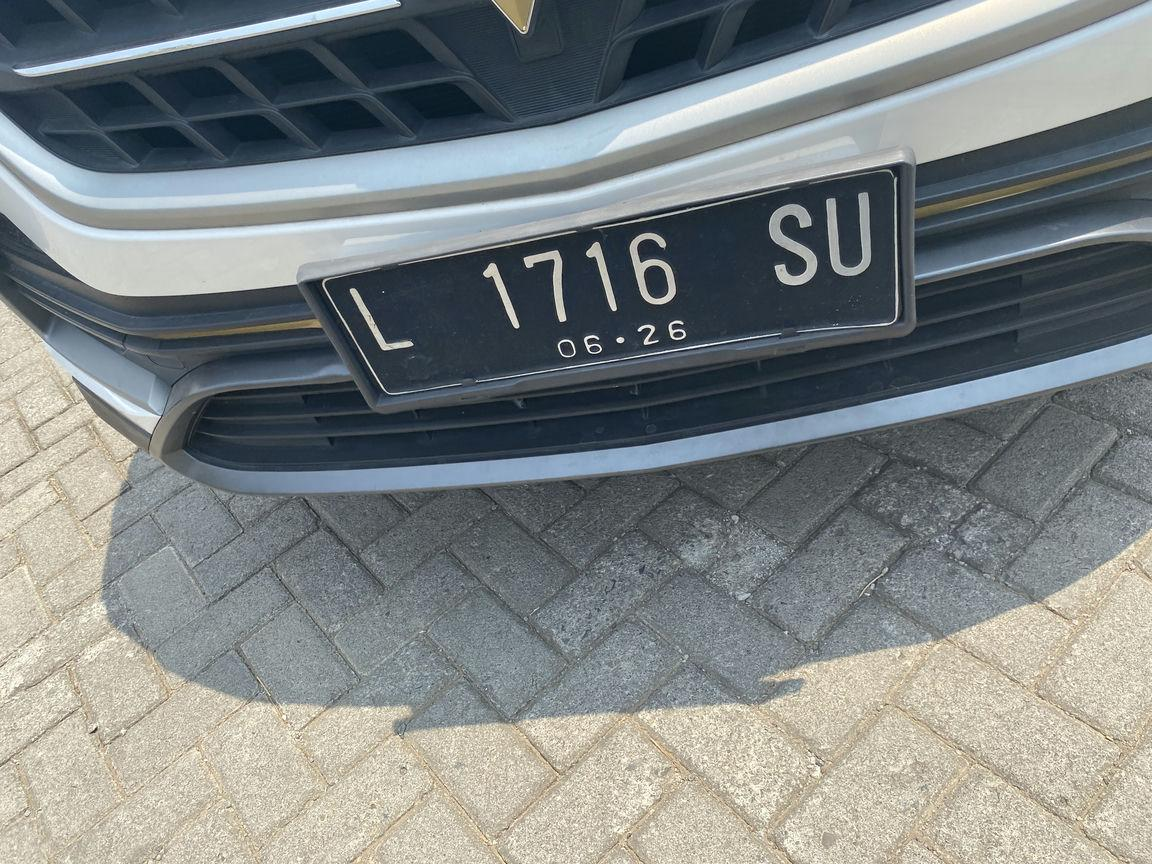plat: (302, 162, 916, 412)
